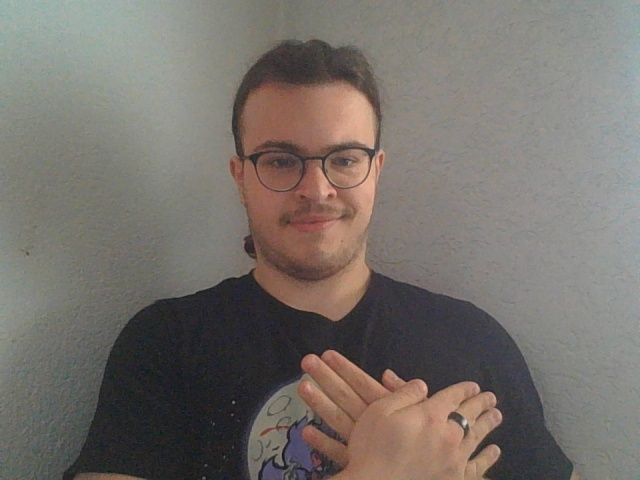Love: (292, 347, 505, 480)
